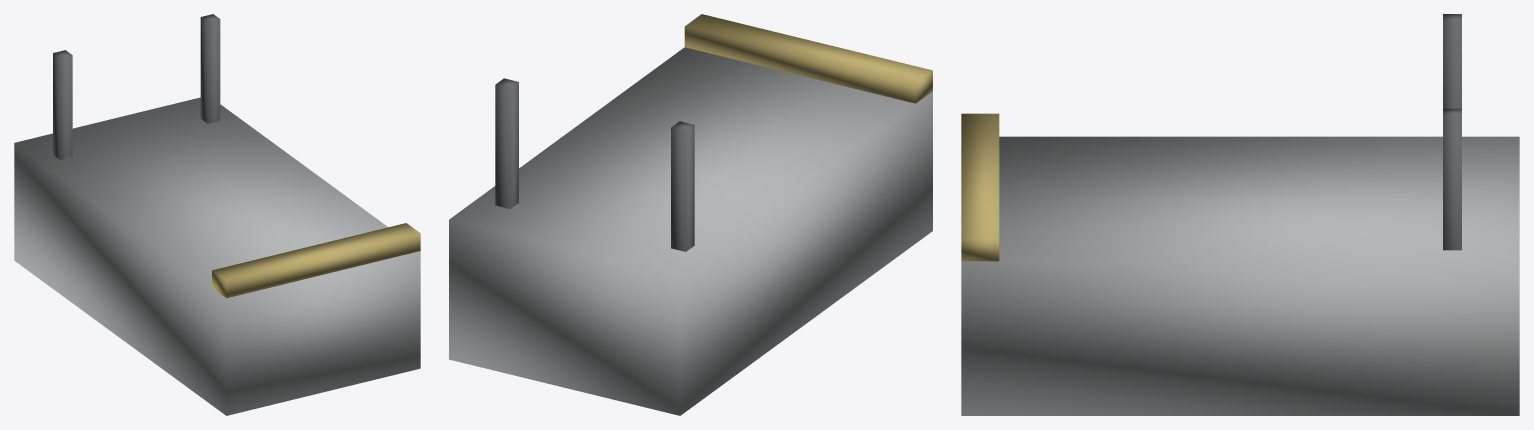
File: loading_dock_09.glb
The picture shows the model from 3 angles, left to right: view 1: azimuth 30°, elevation 25°; view 2: azimuth 150°, elevation 25°; view 3: azimuth 270°, elevation 25°; orthographic projection. The views are drawn at different scales.
Visible parts, largest first — view 1: world; view 2: world; view 3: world.
Boxes of the visible parts, bbox=[...] form: world: bbox=[14, 14, 420, 415]; world: bbox=[449, 14, 932, 415]; world: bbox=[961, 14, 1519, 415].
Size of the model in its own units: 1.4 by 1.51 by 2.65.
